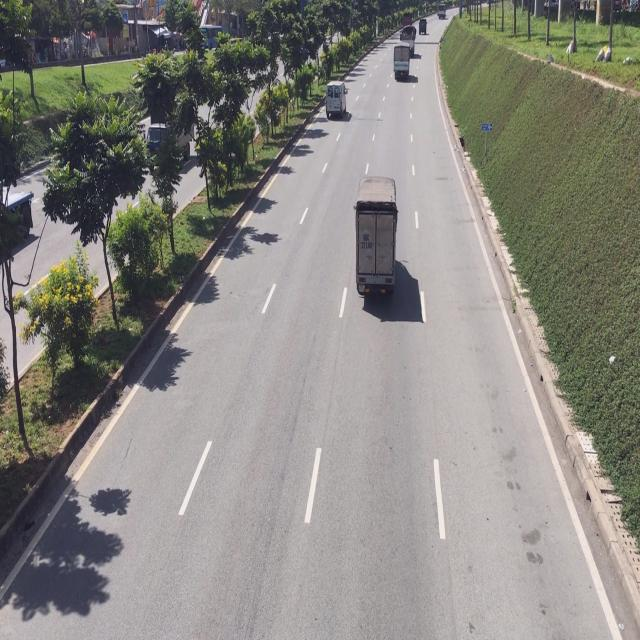truck: (351, 174, 399, 302), (326, 79, 346, 120), (392, 42, 410, 81)
